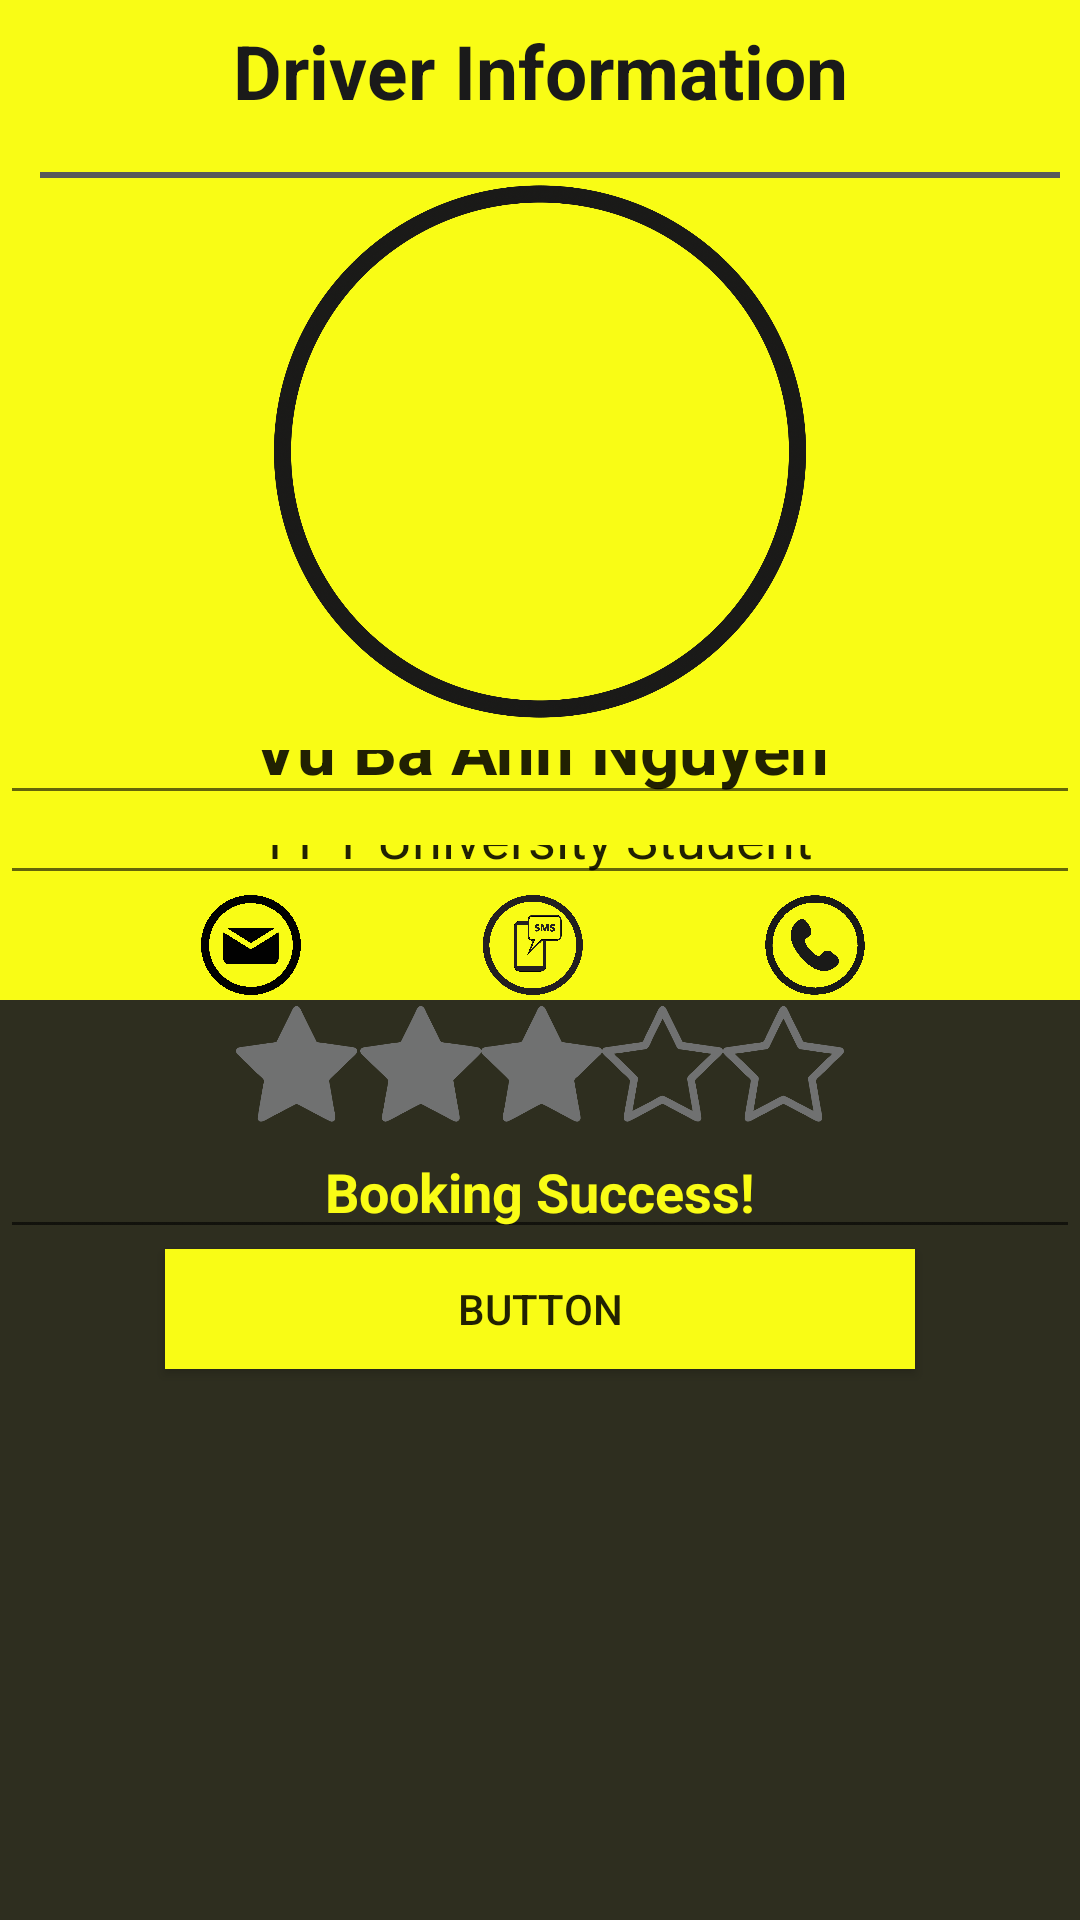

Icons on this 1080px×1920px Android screen, each with the point to tap as (x=x, y=y):
mail: (x=251, y=945)
phone: (x=815, y=945)
